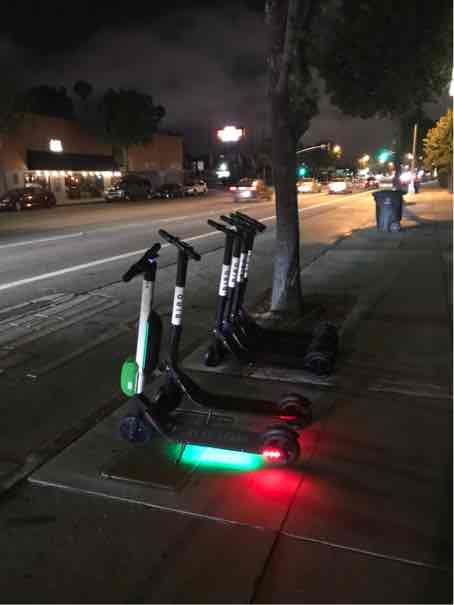scooter: (91, 230, 343, 476)
